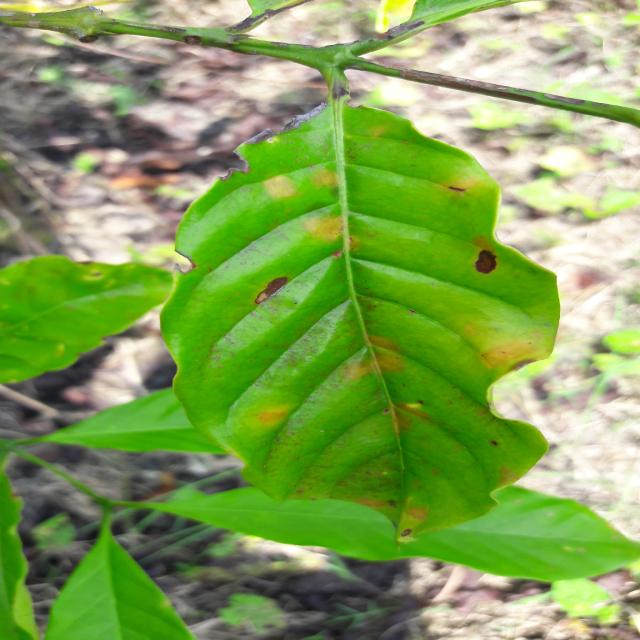Enfermedad-Roya: (158, 95, 561, 544)
